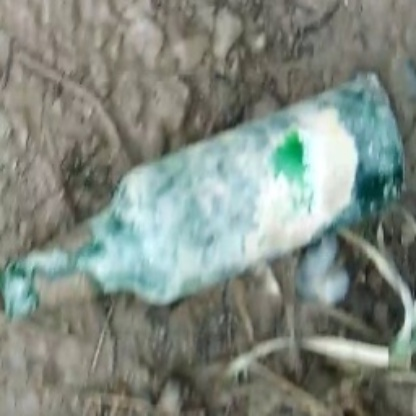bottle: (7, 71, 408, 311)
